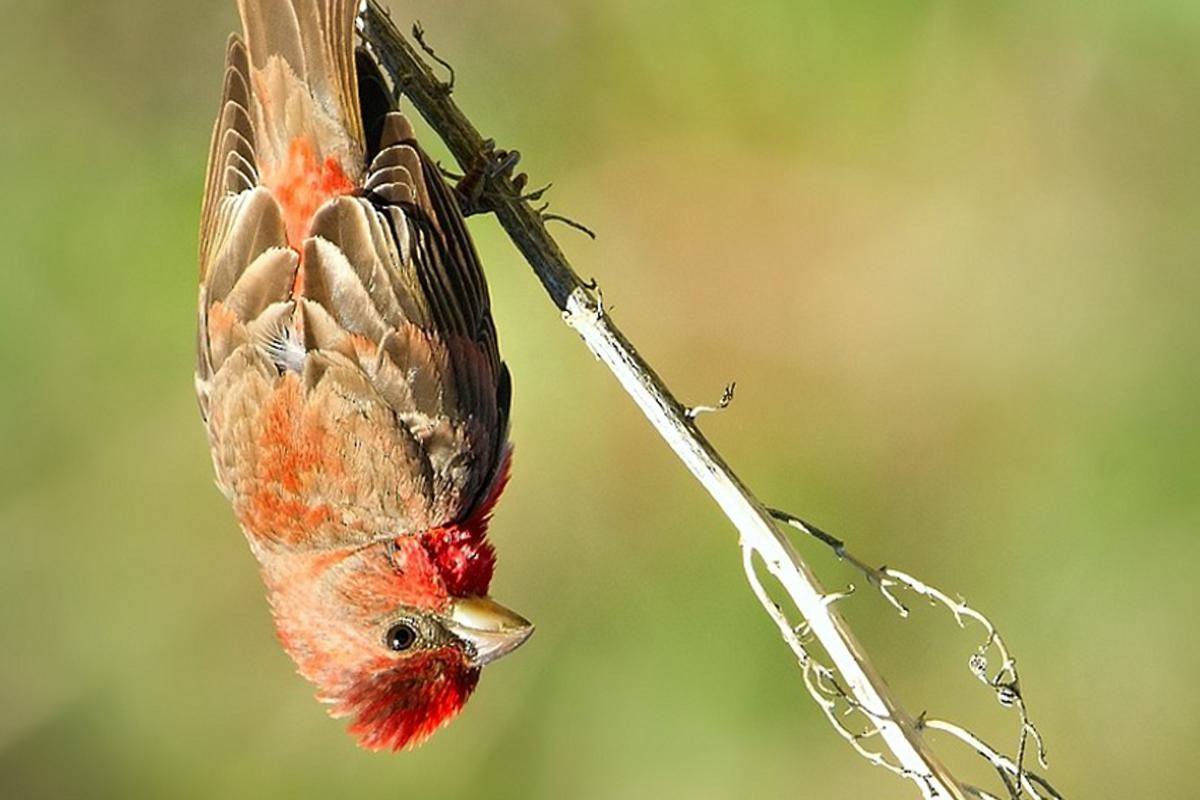rosefinch: (215, 22, 544, 751)
